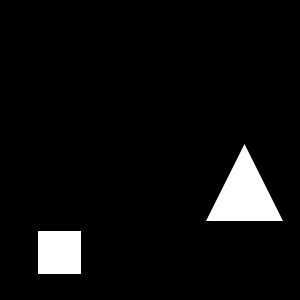circle: (38, 231, 81, 274)
triangle: (206, 144, 283, 221)
